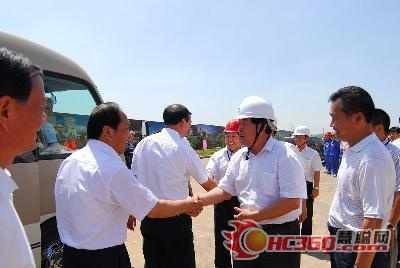none: (4, 41, 51, 171), (325, 83, 371, 142), (84, 101, 134, 153), (161, 102, 190, 137), (366, 104, 392, 141)
red: (222, 119, 243, 152)
white: (233, 95, 276, 145), (292, 124, 310, 148)
